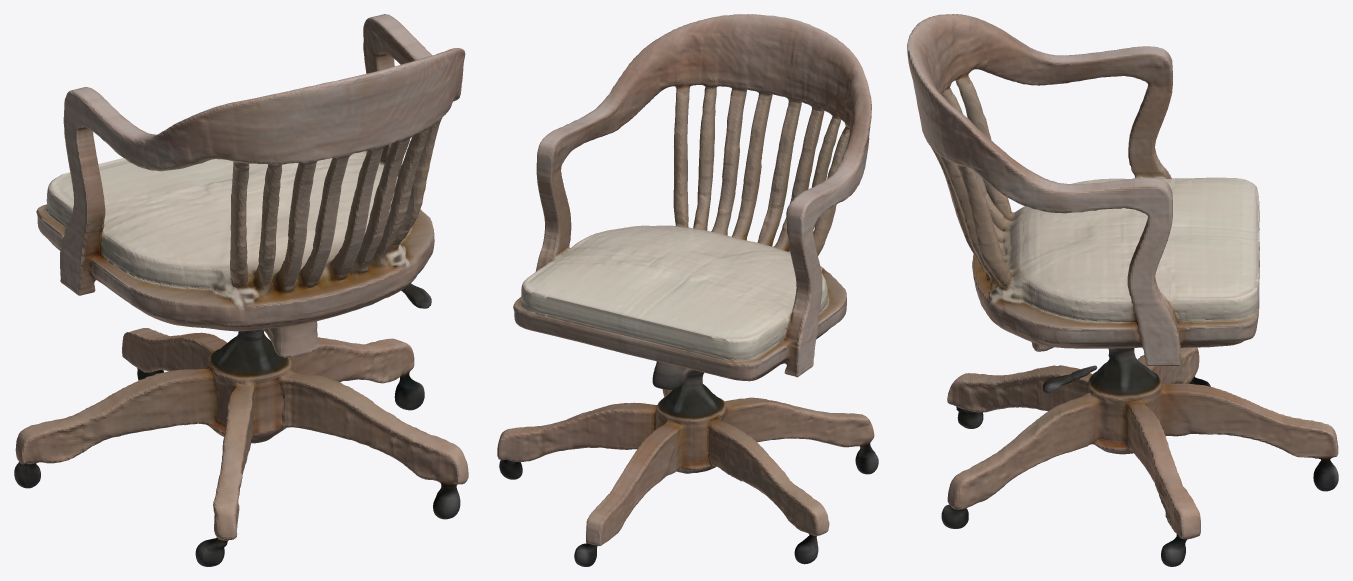
File: amesh_698.glb
The picture shows the model from 3 angles, left to right: view 1: azimuth 30°, elevation 25°; view 2: azimuth 150°, elevation 25°; view 3: azimuth 270°, elevation 25°; orthographic projection. The views are drawn at different scales.
Parts seen in each view (by area): view 1: world; view 2: world; view 3: world.
Part boxes in pixels (x1,y1,x2,y2): world: (14, 14, 468, 566); world: (497, 14, 878, 566); world: (907, 14, 1338, 566).
Bounding box in the file's own units: 1.53 × 1.8 × 1.6.
